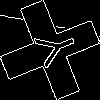Y: (25, 25, 80, 73)
